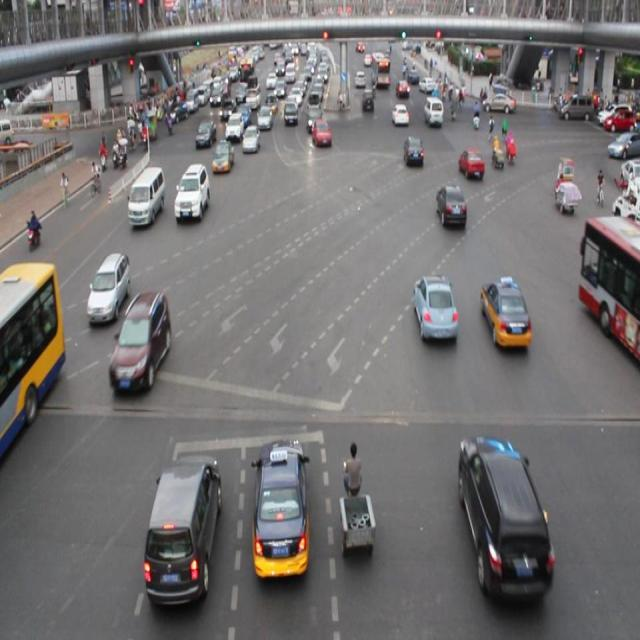car: (456, 433, 552, 599), (251, 442, 310, 580), (111, 288, 168, 398), (481, 279, 532, 348), (411, 273, 456, 341), (86, 253, 130, 319), (174, 161, 209, 221), (436, 181, 464, 227), (458, 145, 483, 180), (309, 116, 332, 152), (402, 135, 423, 168), (213, 140, 233, 173), (225, 110, 244, 144), (240, 124, 260, 156), (194, 120, 215, 150), (390, 102, 408, 128), (256, 104, 272, 132)
truck: (144, 450, 218, 607), (130, 168, 165, 226), (423, 95, 444, 128)
van: (1, 264, 61, 461), (577, 214, 640, 368)
